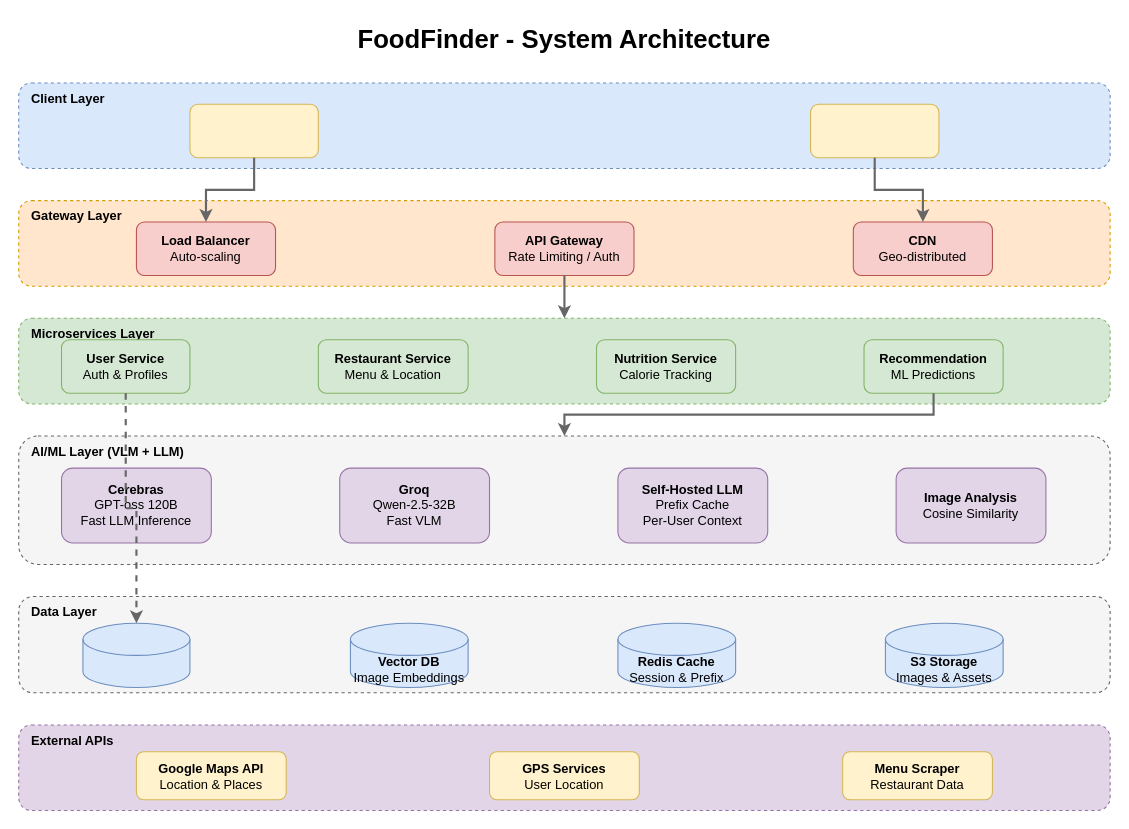
Some shapes in this 1129 by 829 pixel diagram are drawn without their labels. The shapes that lost their labels are listed below. From the top down, each one's centre as x and y in pixels, then its label:
At pixel 253 130: "Mobile App iOS / Android".
At pixel 874 130: "Web App React PWA".
At pixel 136 654: "PostgreSQL User & Restaurant".
